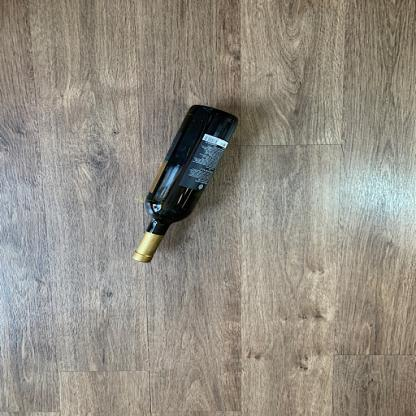trash: (129, 104, 240, 264)
